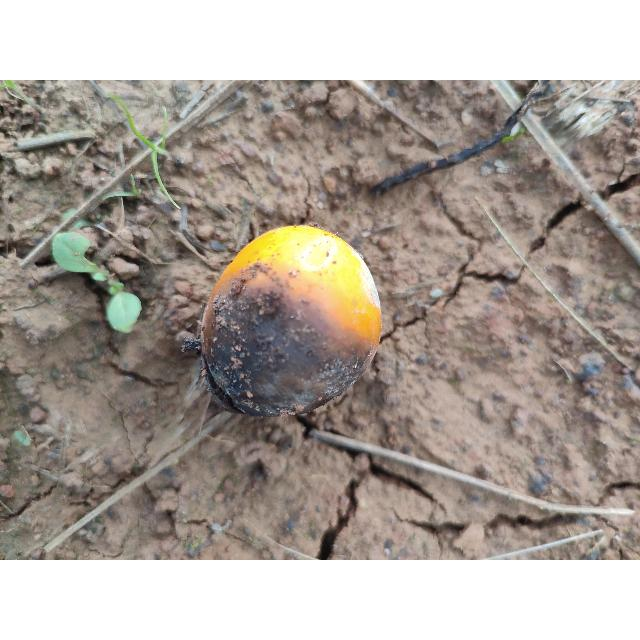damaged: (199, 226, 383, 420)
